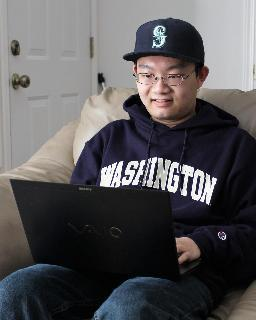person - v3 P: (0, 18, 255, 319)
